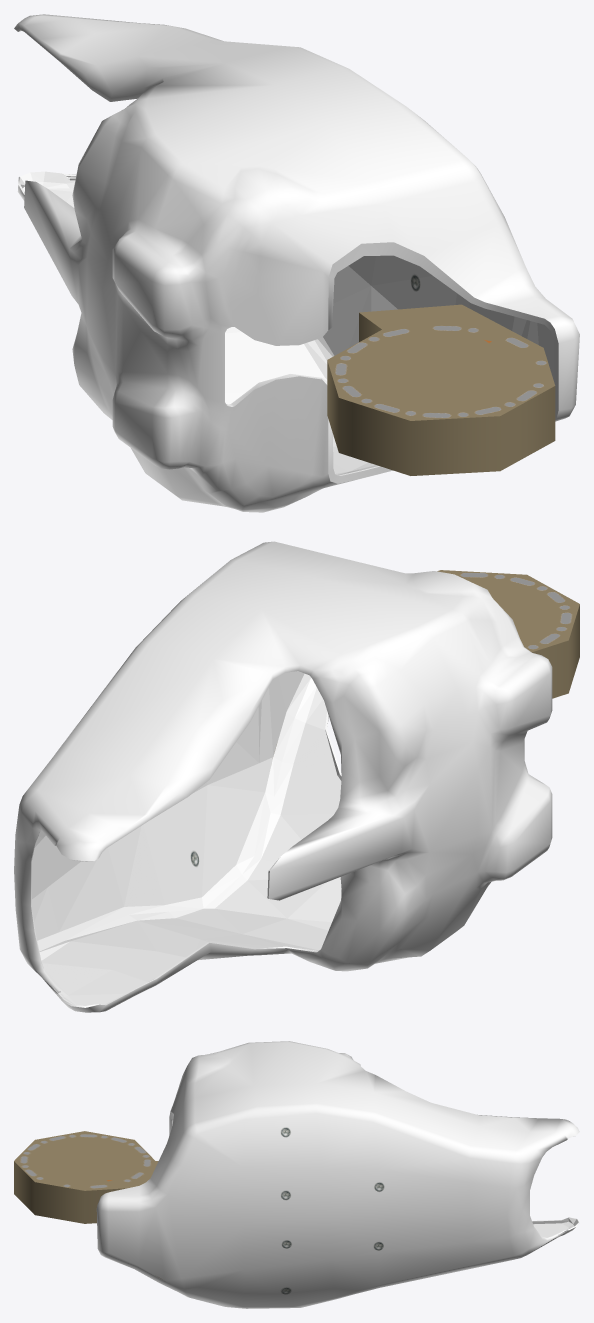
Rendered from lj4_left.fbx.
The picture shows the model from 3 angles, top to bottom: view 1: azimuth 30°, elevation 25°; view 2: azimuth 150°, elevation 25°; view 3: azimuth 270°, elevation 25°; orthographic projection. The views are drawn at different scales.
Visible parts, largest first — view 1: lj4_left; view 2: lj4_left; view 3: lj4_left.
Boxes of the visible parts, x1,y1,x2,y2 form: lj4_left: [14, 14, 579, 512]; lj4_left: [14, 541, 579, 1012]; lj4_left: [14, 1041, 579, 1308].
Size of the model in its own units: 0.1865 by 0.1791 by 0.446.
